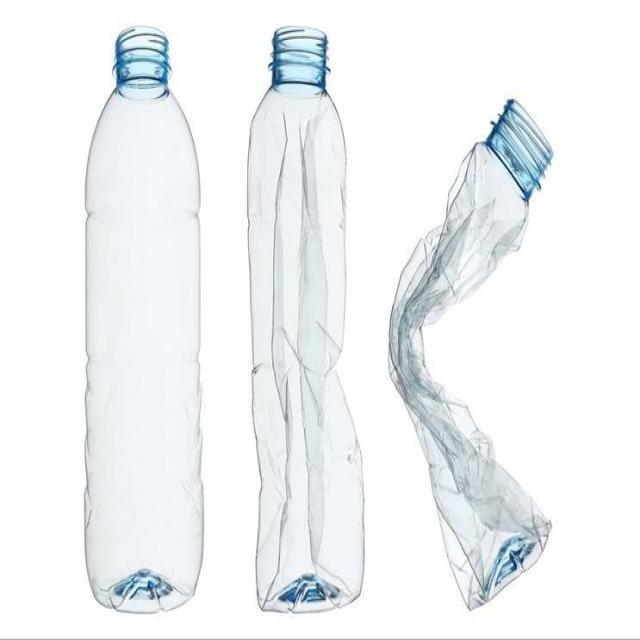plastic_bottle: (386, 103, 562, 604), (248, 33, 366, 602), (85, 40, 201, 606)
